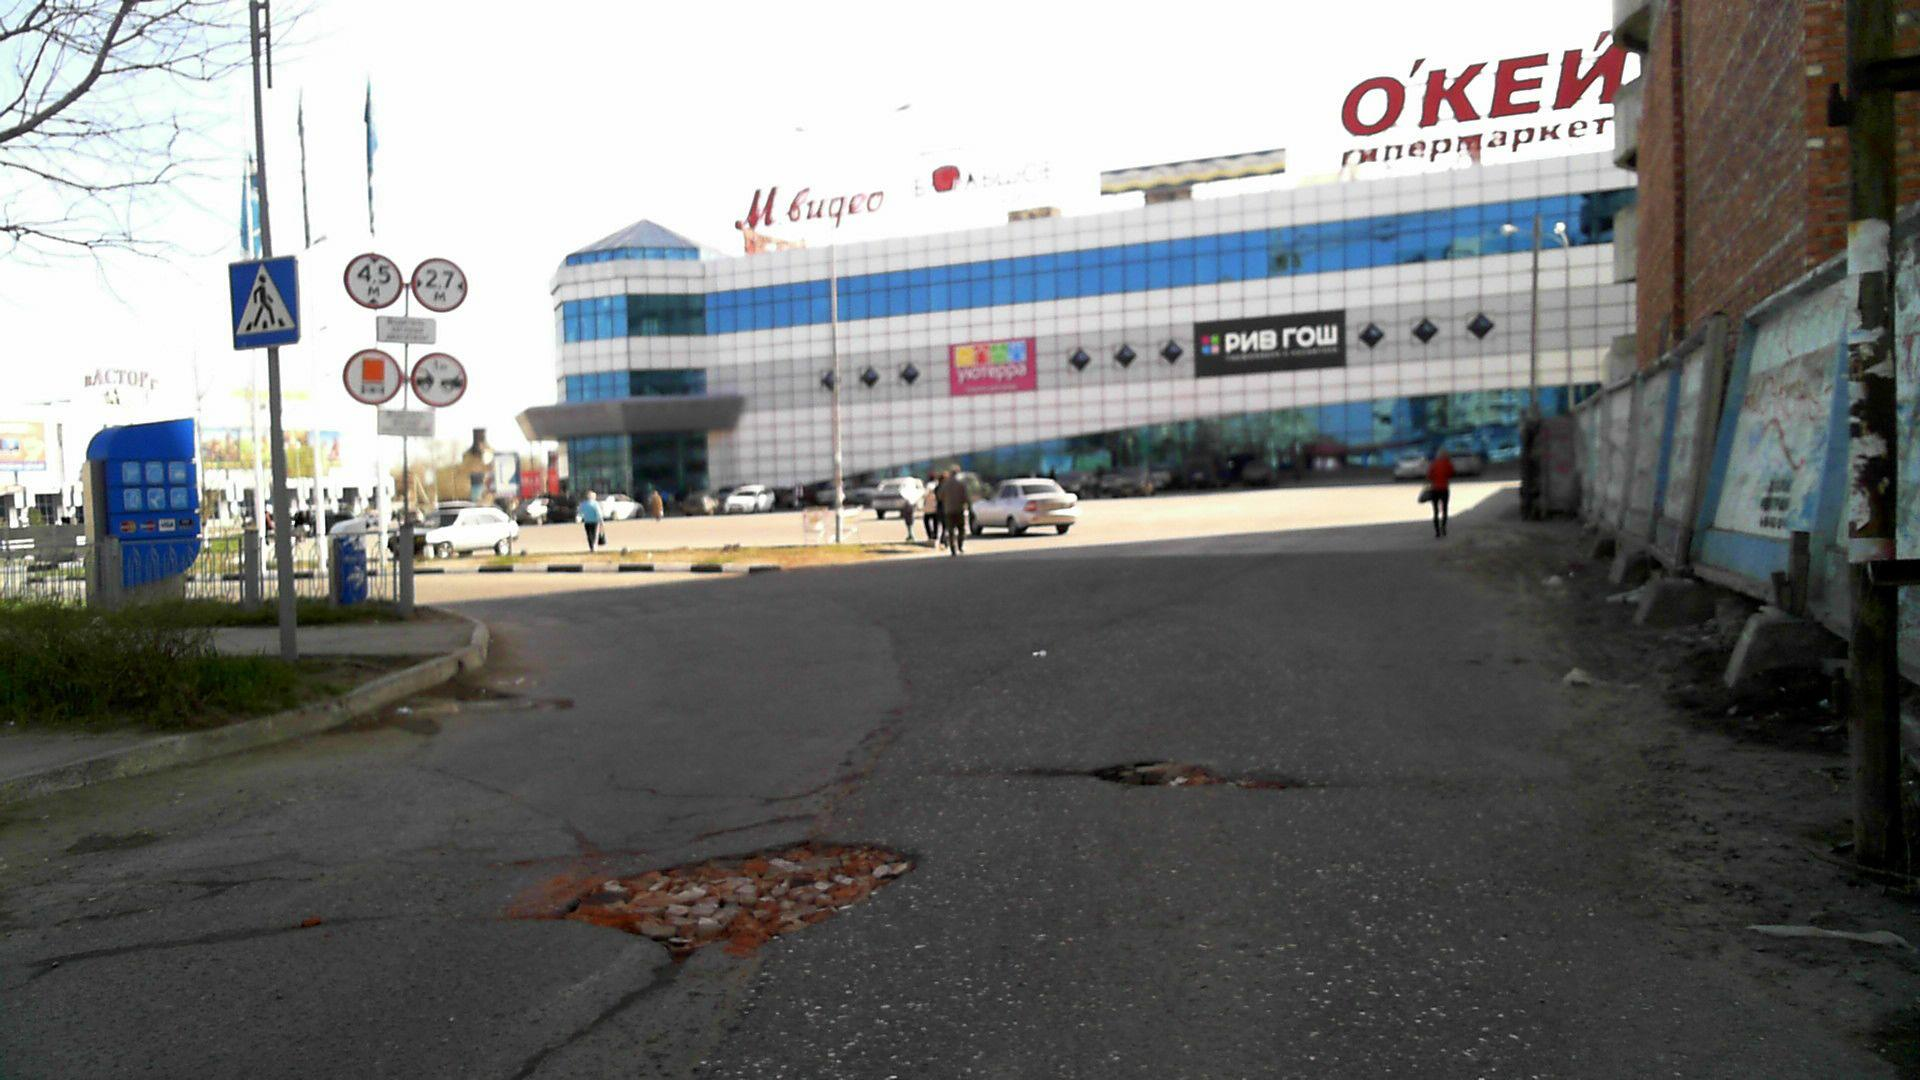3_13: (344, 251, 402, 309)
3_14: (411, 255, 468, 313)
3_16: (410, 351, 467, 409)
3_32: (343, 348, 404, 405)
5_19_2: (225, 255, 301, 347)
